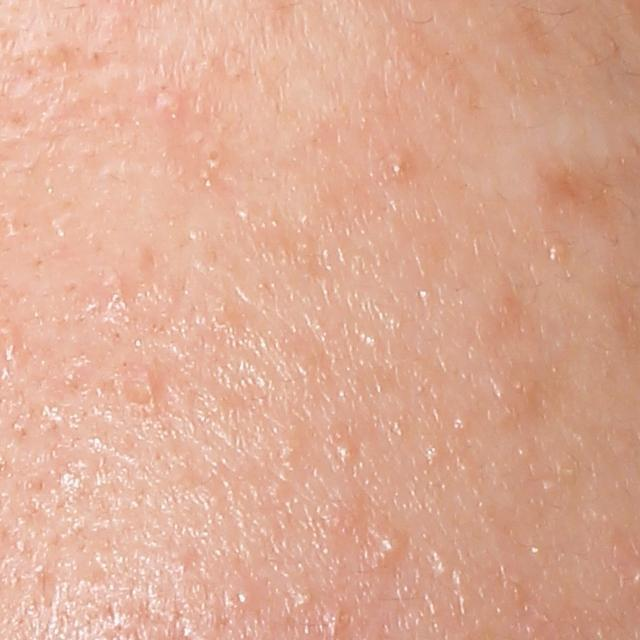comedo: (120, 368, 160, 407), (149, 90, 185, 125), (384, 147, 415, 182), (225, 584, 256, 616), (334, 433, 360, 466), (545, 235, 569, 265), (199, 144, 224, 170)
